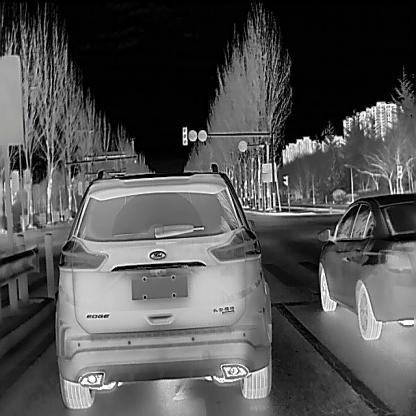car: (53, 161, 272, 409), (317, 190, 416, 341)
